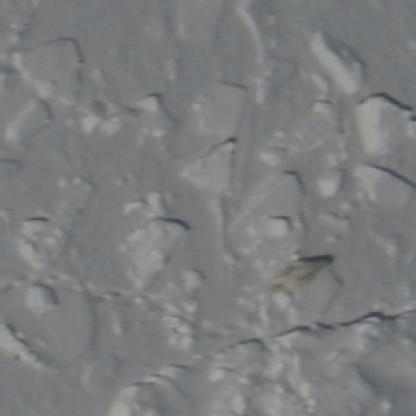polar-bear: (271, 256, 336, 291)
